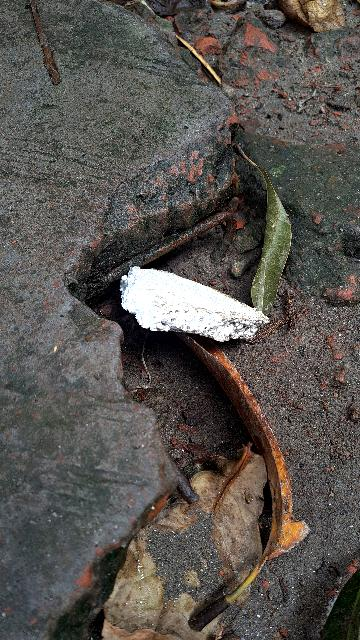cocksheet: (101, 240, 284, 365)
